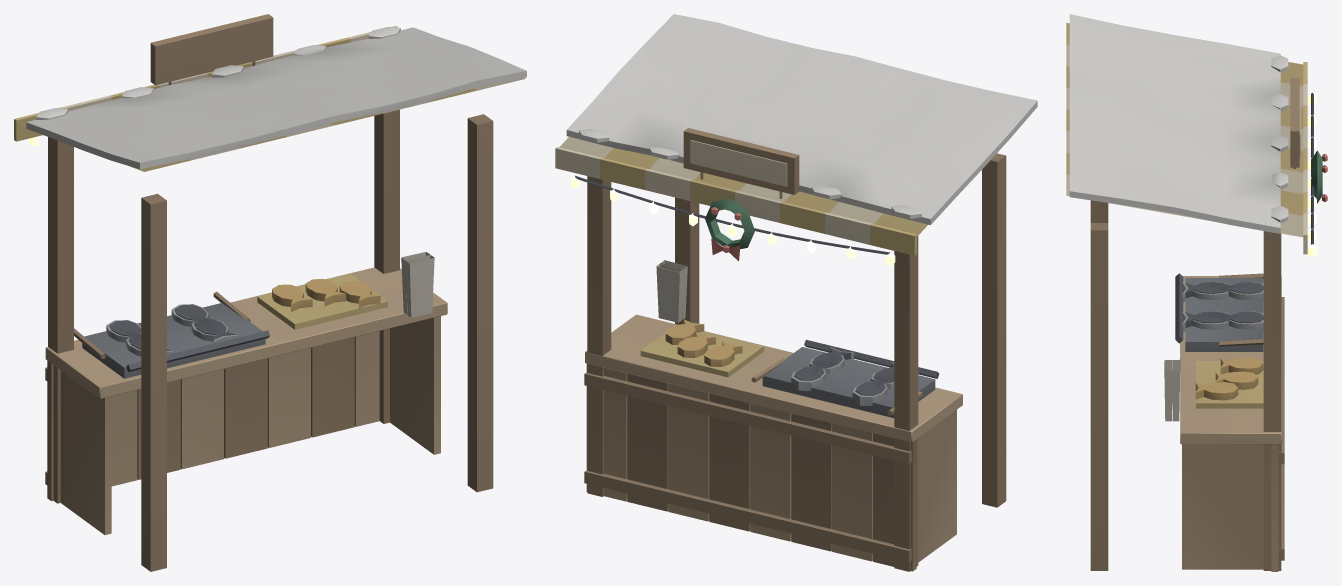
The model's file is market_stall_fishbread_low.glb.
The picture shows the model from 3 angles, left to right: view 1: azimuth 30°, elevation 25°; view 2: azimuth 150°, elevation 25°; view 3: azimuth 270°, elevation 25°; orthographic projection. The views are drawn at different scales.
Visible parts, largest first — view 1: market_stall_fishbread; view 2: market_stall_fishbread; view 3: market_stall_fishbread.
Part boxes in pixels (left/top/right/bottom): market_stall_fishbread: left=14, top=14, right=526, bottom=571; market_stall_fishbread: left=555, top=14, right=1037, bottom=571; market_stall_fishbread: left=1066, top=14, right=1327, bottom=571.
Bounding box in the file's own units: 2.49 × 2.6 × 1.57.
